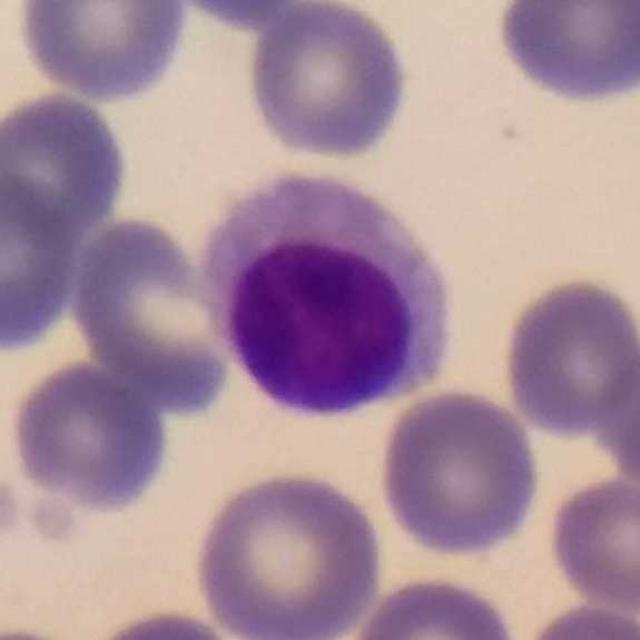Lymphocyte: (197, 158, 467, 431)
RBC: (67, 213, 240, 416), (190, 465, 388, 640), (374, 385, 545, 561), (3, 355, 175, 521), (240, 1, 413, 164), (497, 272, 639, 440), (0, 87, 134, 248), (10, 0, 196, 105), (489, 0, 640, 108), (0, 169, 83, 355), (543, 472, 640, 614), (348, 571, 524, 640), (592, 318, 640, 501), (80, 604, 252, 640), (149, 0, 331, 32), (517, 600, 640, 640)
